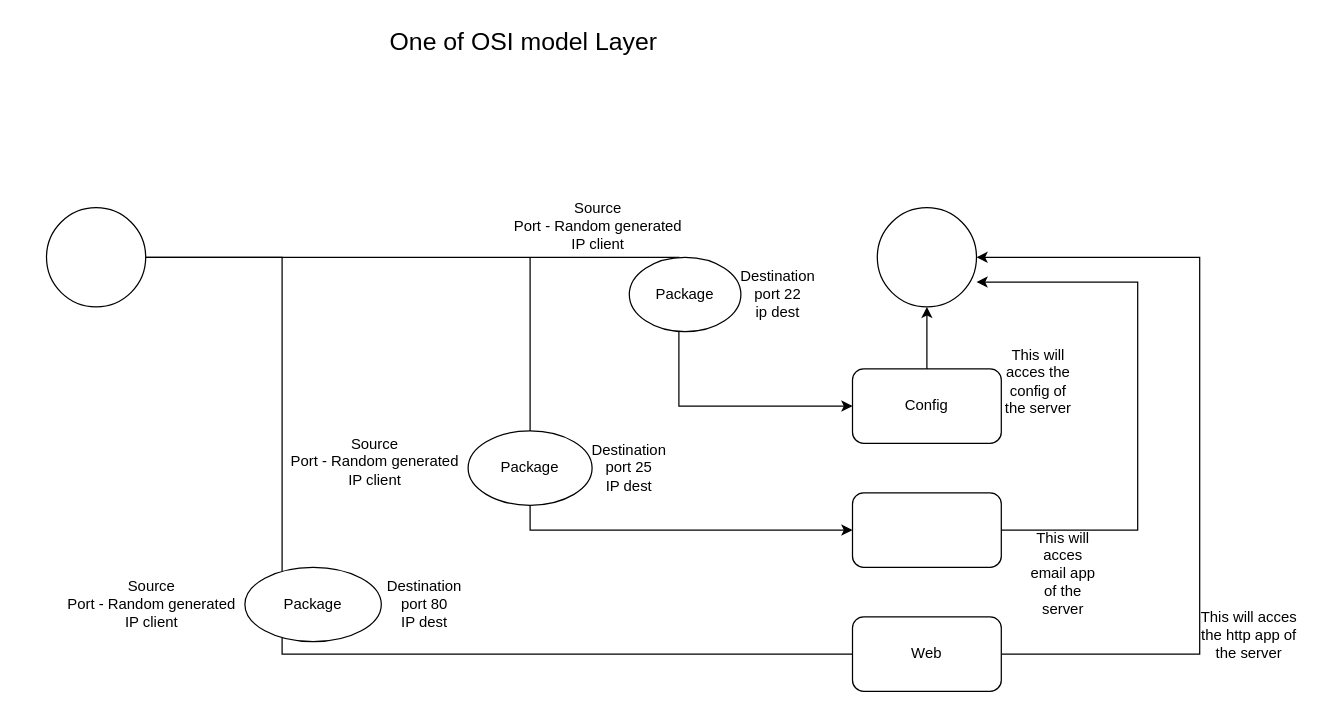
Some shapes in this 1319 by 713 pixel diagram are drawn without their labels. The shapes that lost their labels are listed below. From the top down, each one's centre as x and y in pixels, then its label:
At (95,256): "Client".
At (926,256): "Server".
At (926,529): "Mail".
